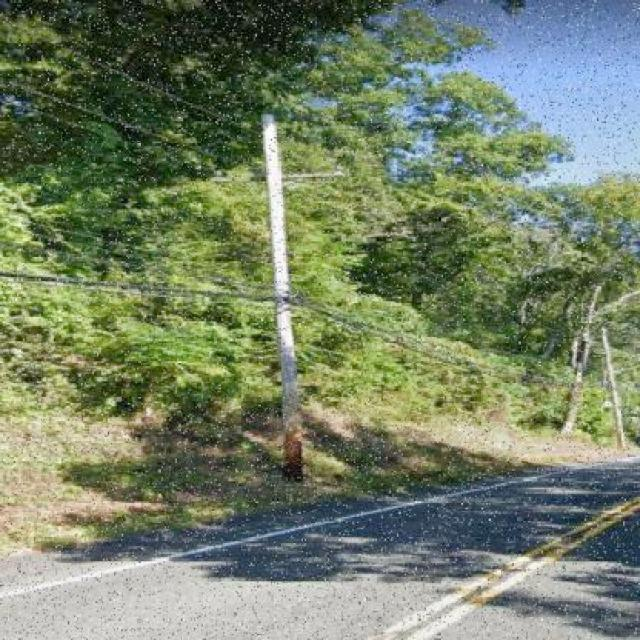pole: (262, 115, 305, 488)
wire: (0, 264, 640, 392)
